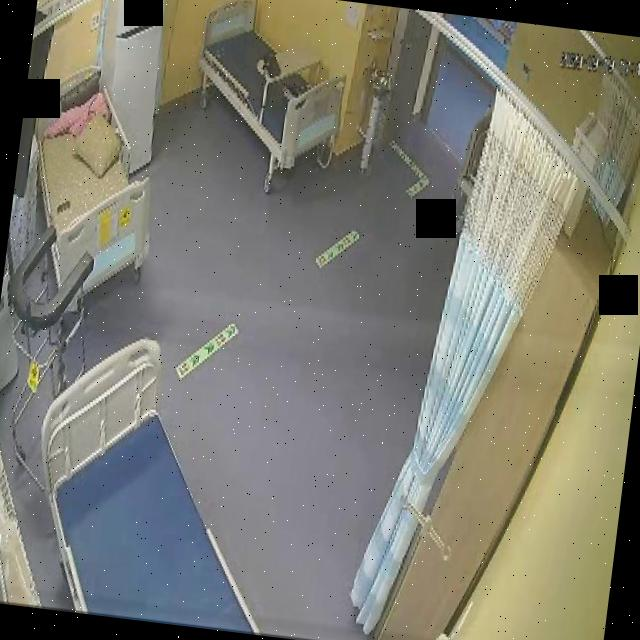bed: (20, 326, 293, 632), (15, 60, 172, 304), (186, 0, 355, 175)
walker: (0, 211, 103, 490)
